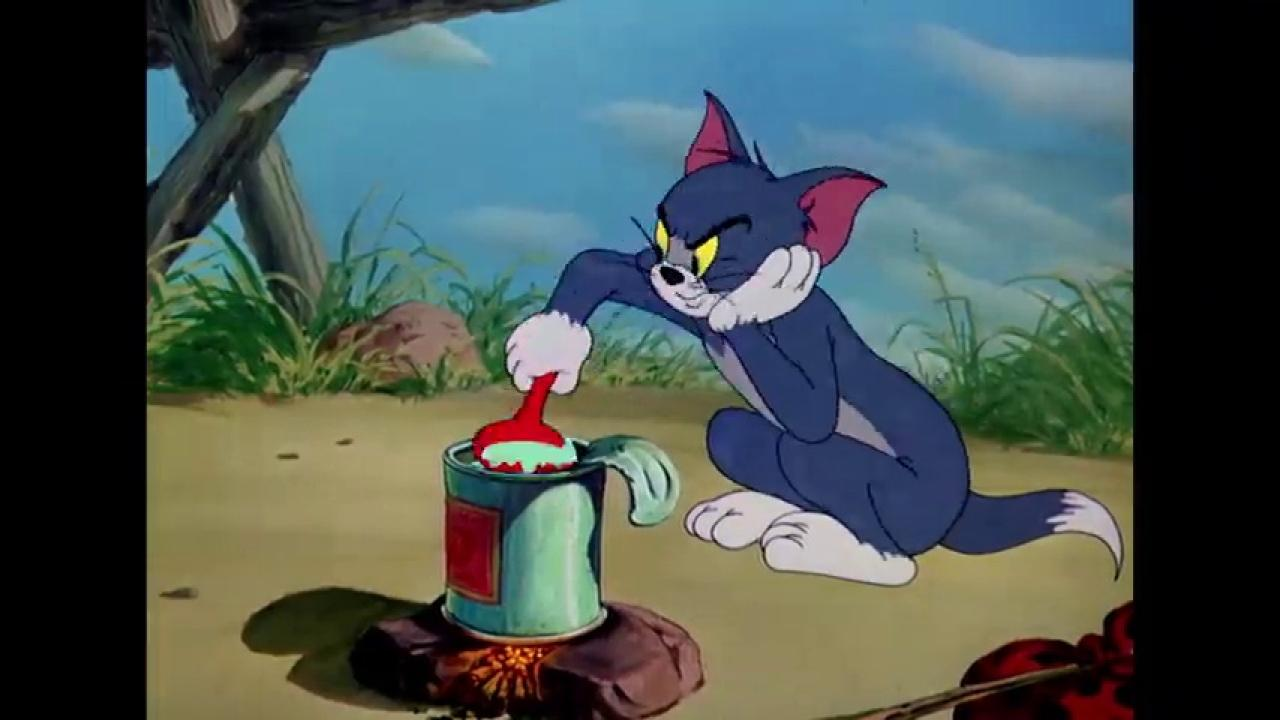Tom: (501, 85, 1124, 582)
